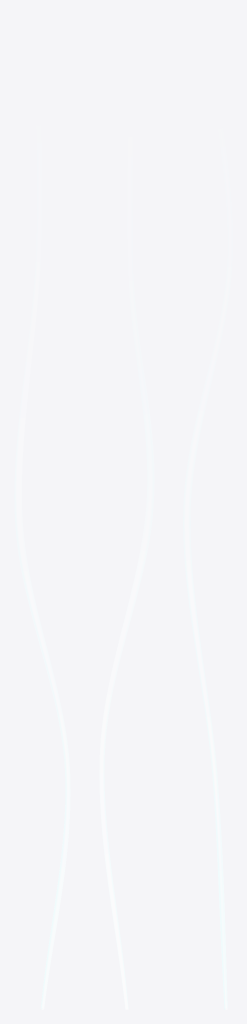
The model's file is strand_c_scenic.glb.
3 views of the same model, side by side, from view 1: azimuth 30°, elevation 25°; view 2: azimuth 210°, elevation 25°; view 3: azimuth 330°, elevation 25° (orthographic).
Size of the model in its own units: 0.337 by 7 by 0.3138.
